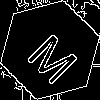M: (25, 25, 87, 87)
